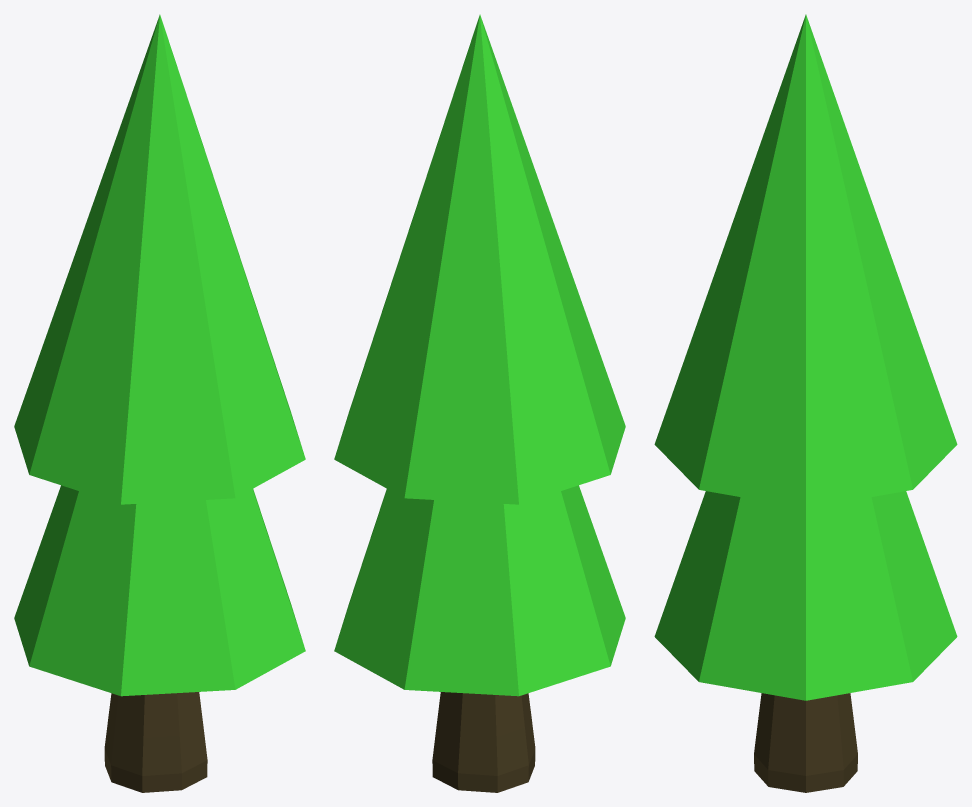
File: arvoreee.fbx
The picture shows the model from 3 angles, left to right: view 1: azimuth 30°, elevation 25°; view 2: azimuth 150°, elevation 25°; view 3: azimuth 270°, elevation 25°; orthographic projection.
Visible parts, largest first — view 1: Cone.001, Cone, Plane; view 2: Cone.001, Cone, Plane; view 3: Cone.001, Cone, Plane.
Part boxes in pixels (left/top/right/bottom): Cone.001: left=14, top=14, right=305, bottom=504; Cone: left=14, top=485, right=305, bottom=696; Plane: left=104, top=692, right=207, bottom=792; Cone.001: left=334, top=14, right=625, bottom=504; Cone: left=334, top=485, right=625, bottom=696; Plane: left=432, top=692, right=535, bottom=792; Cone.001: left=654, top=14, right=957, bottom=508; Cone: left=654, top=491, right=957, bottom=700; Plane: left=754, top=693, right=857, bottom=792.
Size of the model in its own units: 361 by 1005 by 361.
